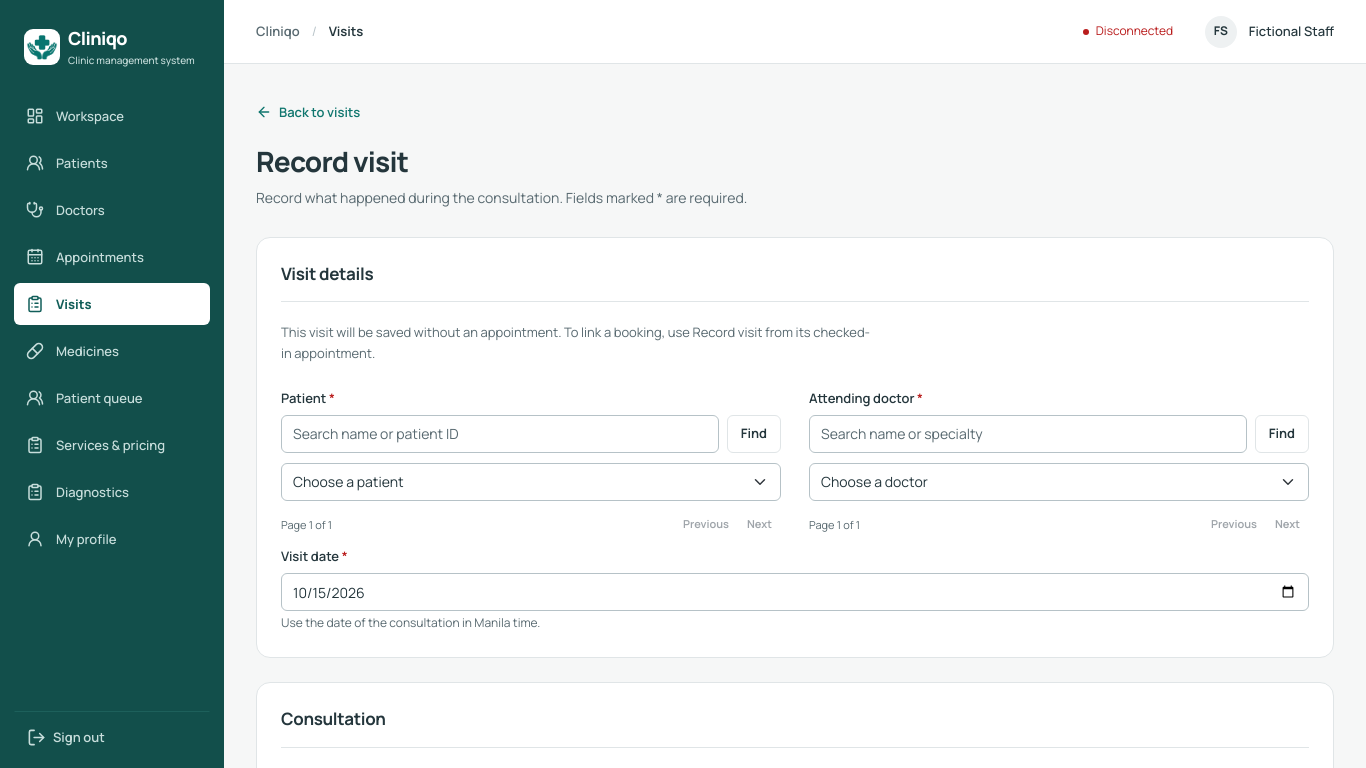
Test: visit and treatment workflows › preserves failed visit entries, retries with the same save identity, and leaves unknown findings blank
The width and height of the screenshot is (1366, 768).
Step 1. Select "Fictional Patient · PT-000000000001" in the dropdown labelled "Patient *" → (531, 482), box [281,463,781,501]
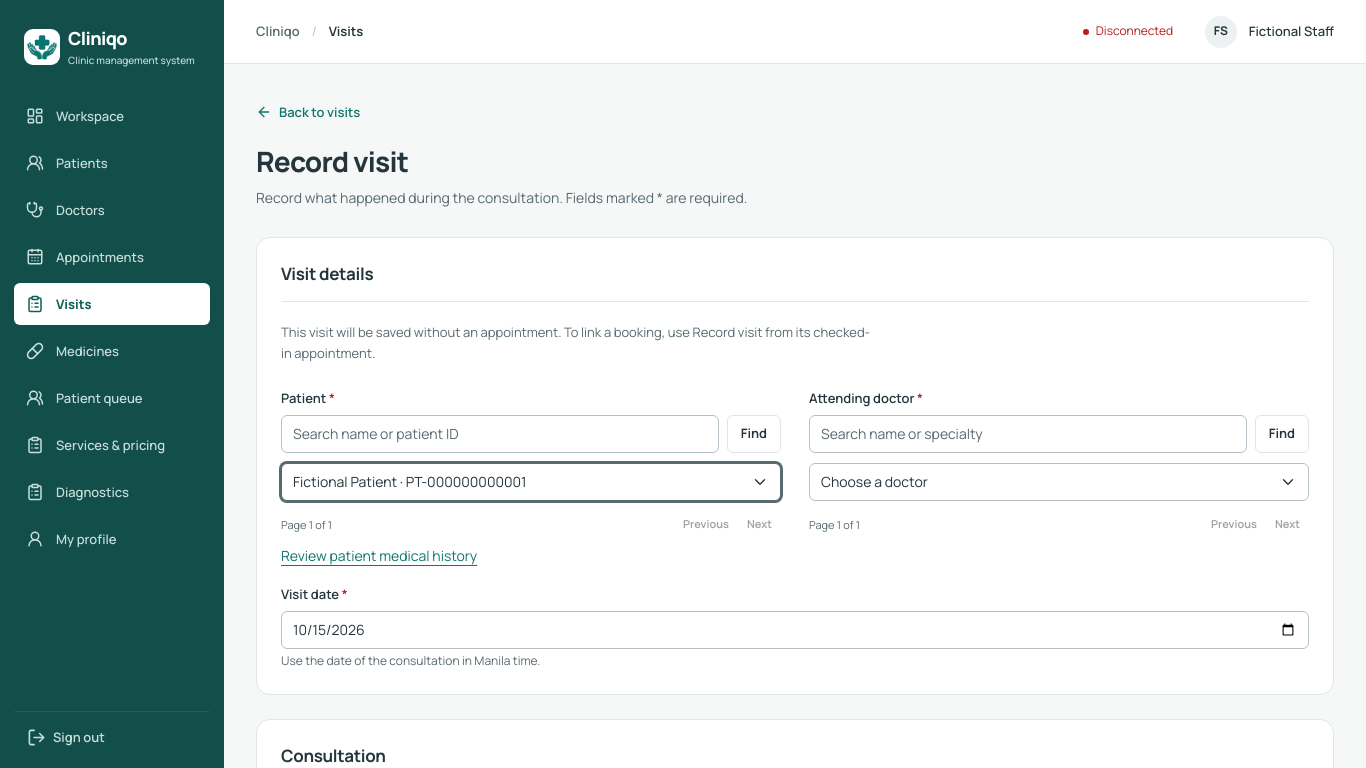
Step 2. Select "Fictional Doctor · Family medicine" in the dropdown labelled "Attending doctor *" → (1059, 482), box [809,463,1309,501]
(page scrolled)
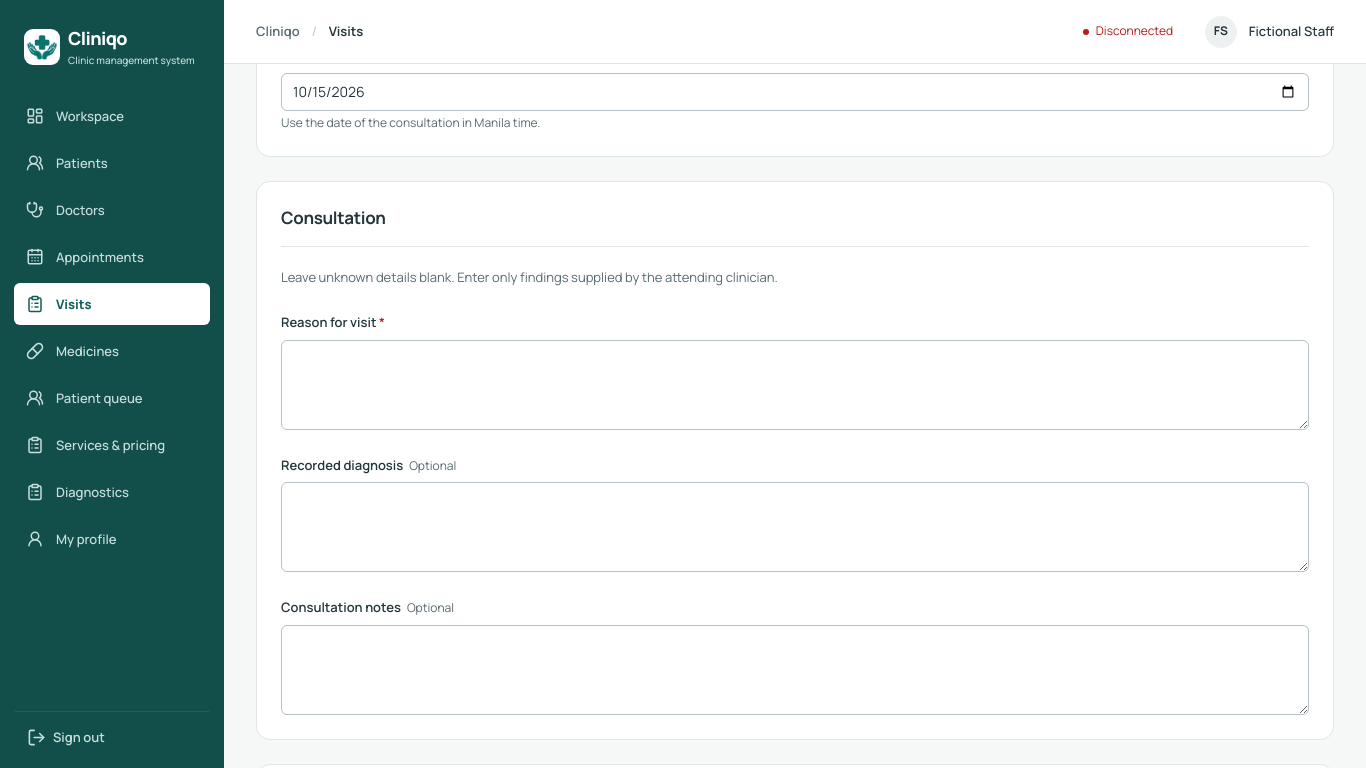
Step 3. Type "Fictional consultation" into the text box labelled "Reason for visit *" → (795, 384), box [281,340,1309,430]
(page scrolled)
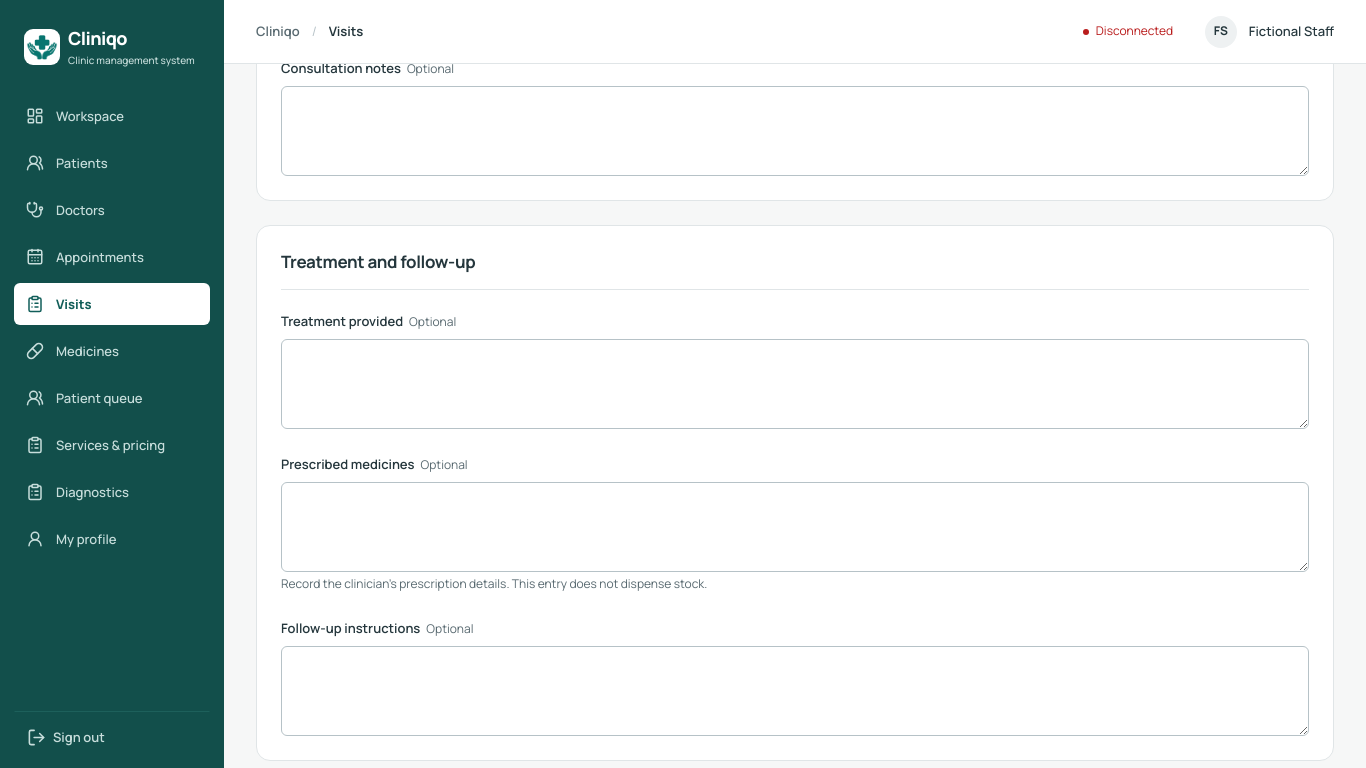
Step 4. Type "Fictional treatment notes" into the text box labelled "Treatment provided" → (795, 384), box [281,339,1309,429]
(page scrolled)
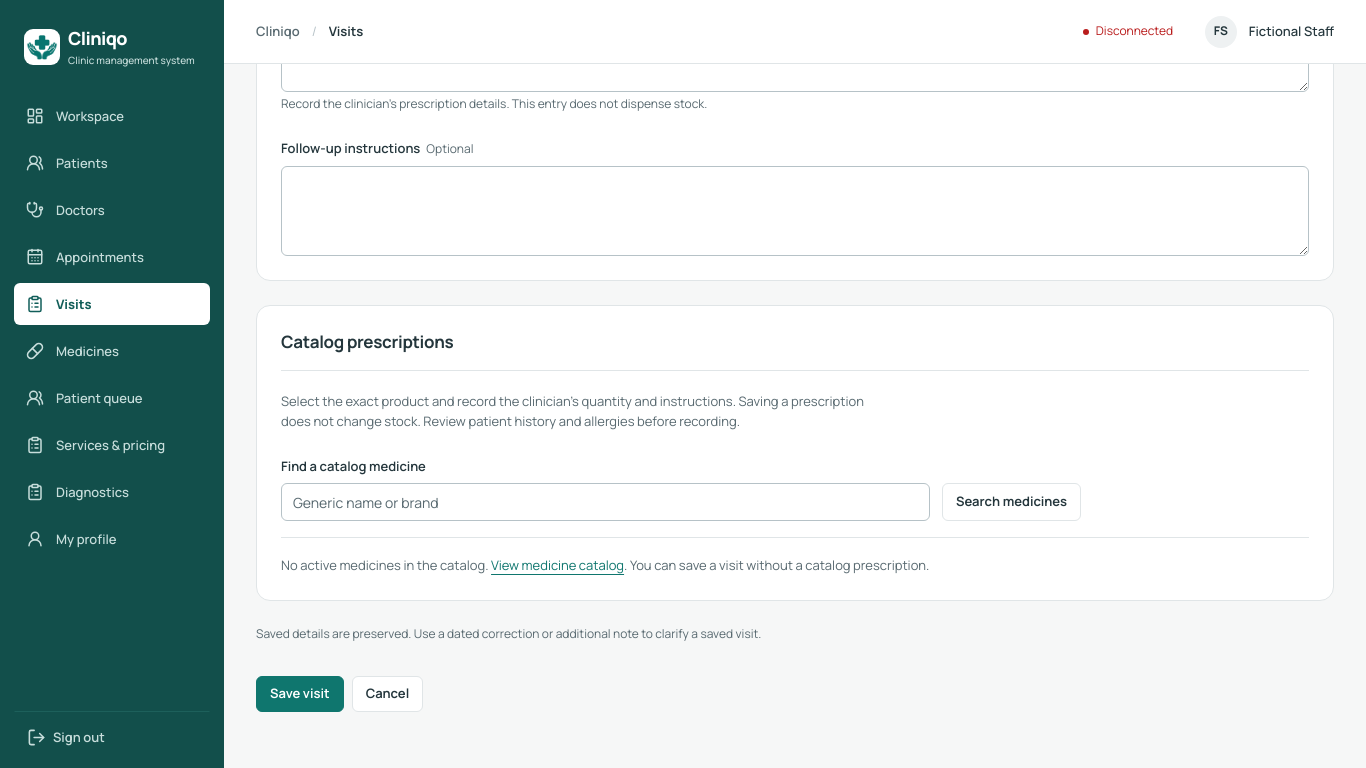
Step 5. Click the button "Save visit" → (300, 694), box [256,676,344,712]
(page scrolled)
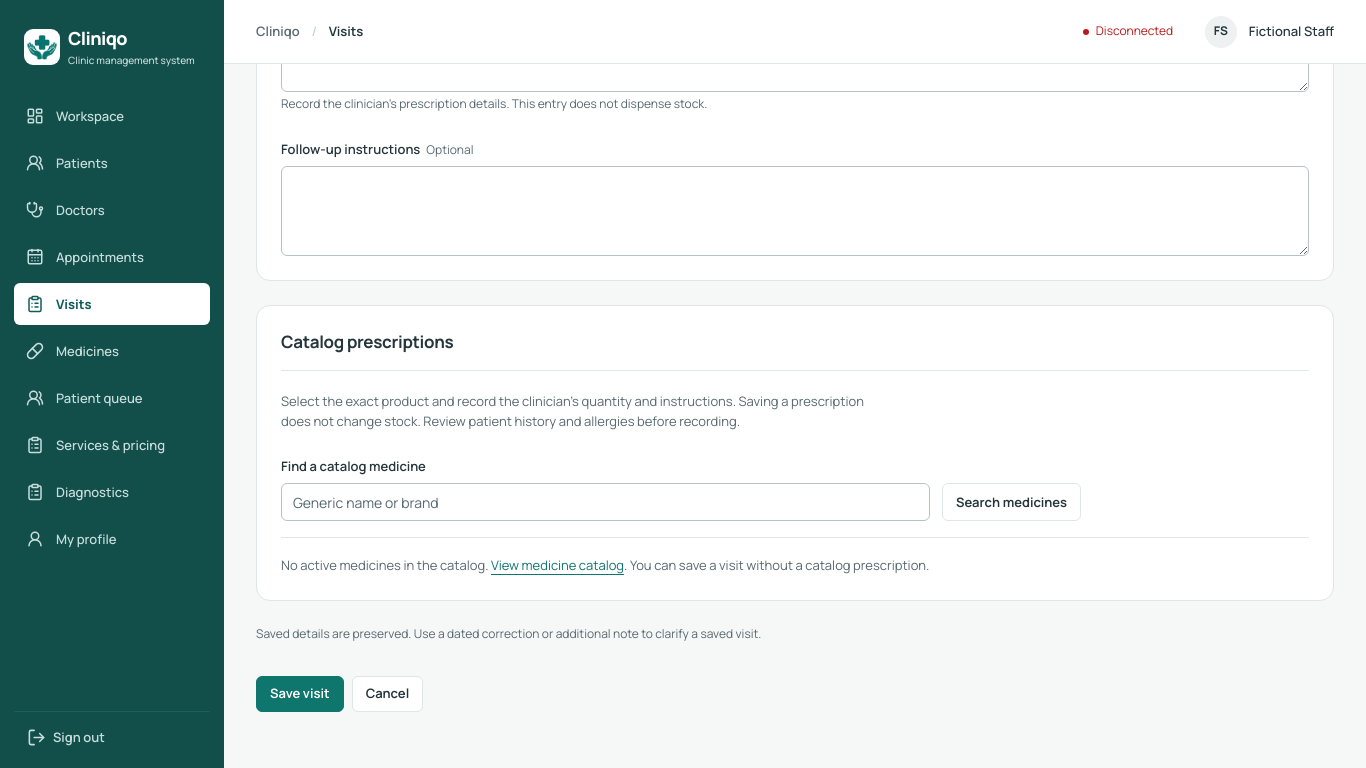
Step 6. Click the button "Save visit" → (300, 694), box [256,676,344,712]
(page scrolled)
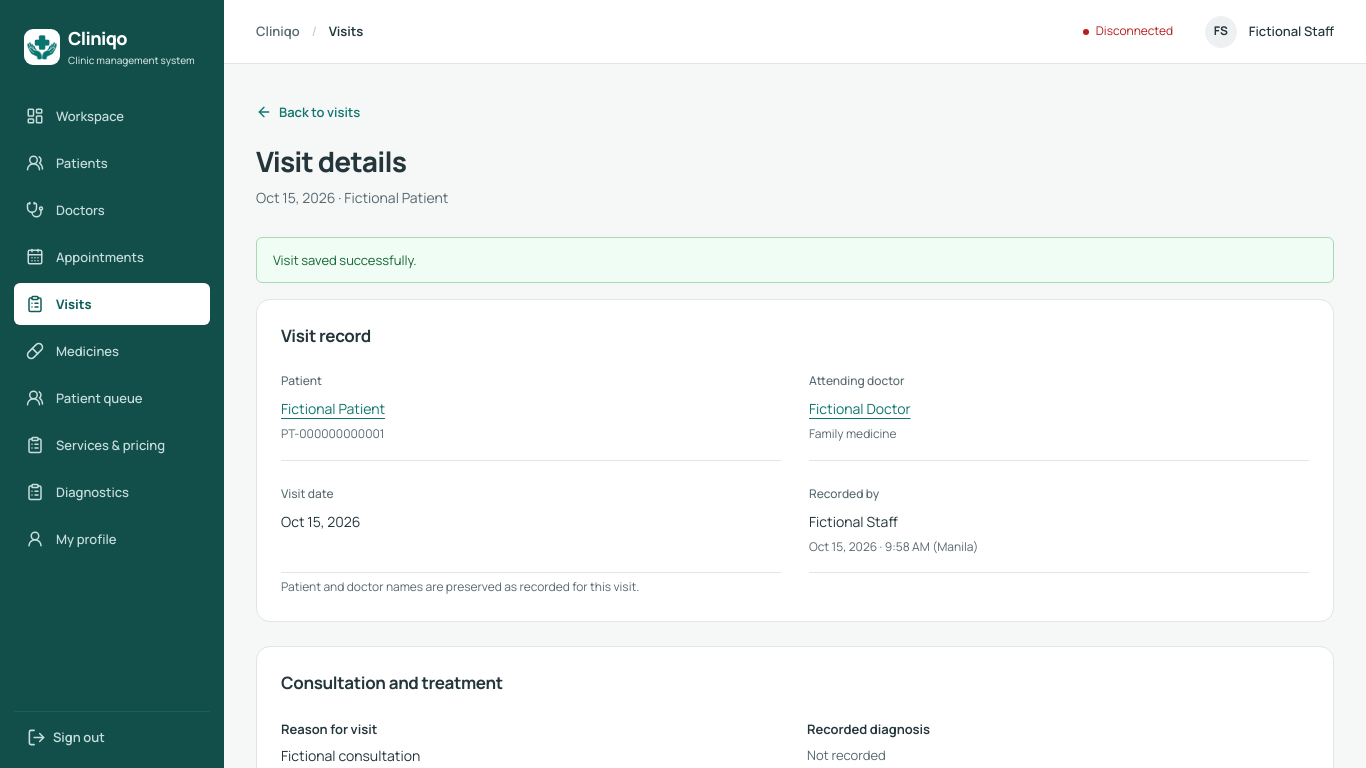
Result: the heading "Visit details" is shown at [256,142,406,180]
Result: the message "Visit saved successfully." is shown at [256,237,1334,283]
